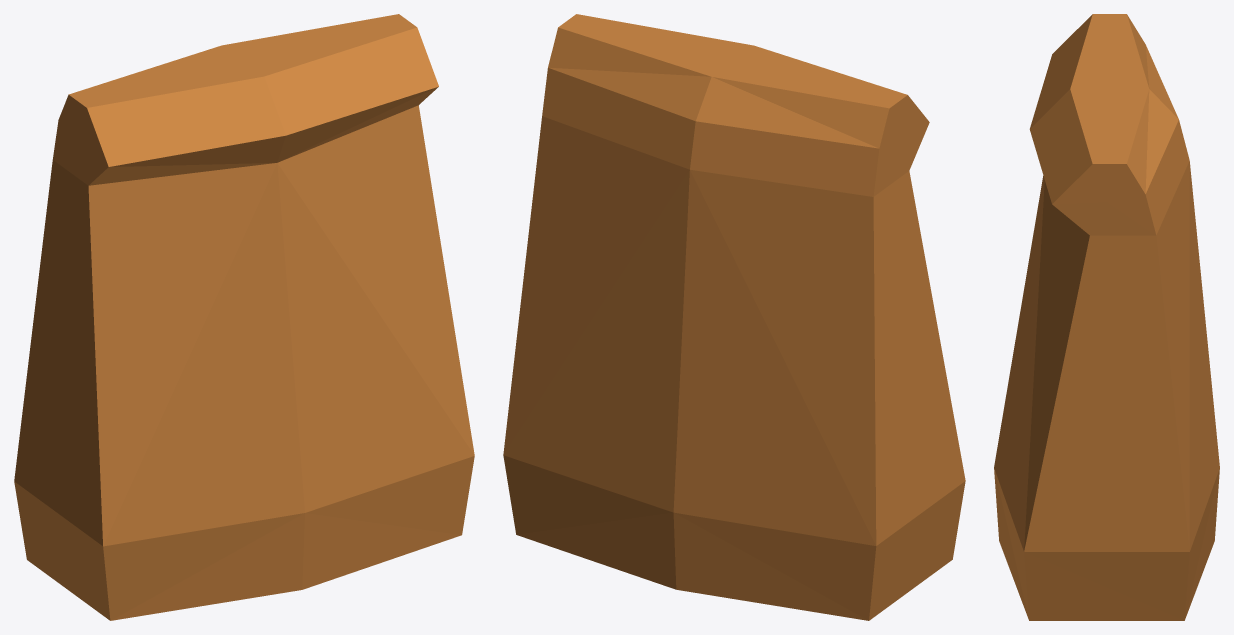
Rendered from Prop_Junk_Paper_Bag_01.FBX.
3 renders of one model, left to right at view 1: azimuth 30°, elevation 25°; view 2: azimuth 150°, elevation 25°; view 3: azimuth 270°, elevation 25°, orthographic. The views are drawn at different scales.
Visible parts, largest first — view 1: Prop_Junk_Paper_Bag_01; view 2: Prop_Junk_Paper_Bag_01; view 3: Prop_Junk_Paper_Bag_01.
Boxes of the visible parts, left/top/right/bottom form: Prop_Junk_Paper_Bag_01: left=14, top=14, right=474, bottom=620; Prop_Junk_Paper_Bag_01: left=503, top=14, right=965, bottom=620; Prop_Junk_Paper_Bag_01: left=994, top=14, right=1219, bottom=620.
Size of the model in its own units: 522 by 651 by 295.
